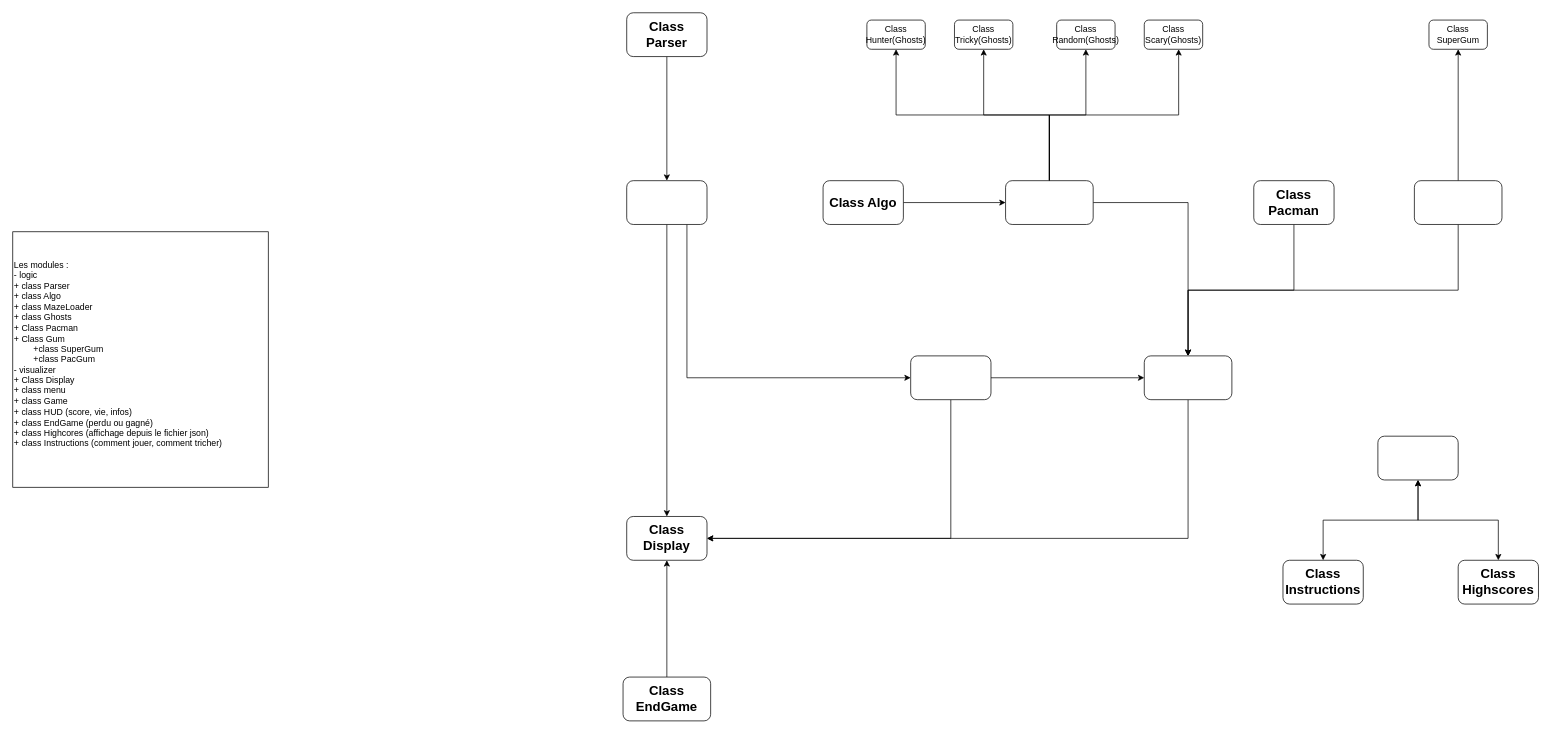
This 1551x734 diagram has some shape labels left out. The shapes that lost their labels are listed below. From the top down, each one's centre as x and y in pixels, then its label:
the point at 666,202: Class MazeLoader
the point at 1049,202: Class Ghosts
the point at 1458,202: Class PacGum
the point at 950,377: Class HUD
the point at 1188,377: Class Game
the point at 1417,457: Class Menu
